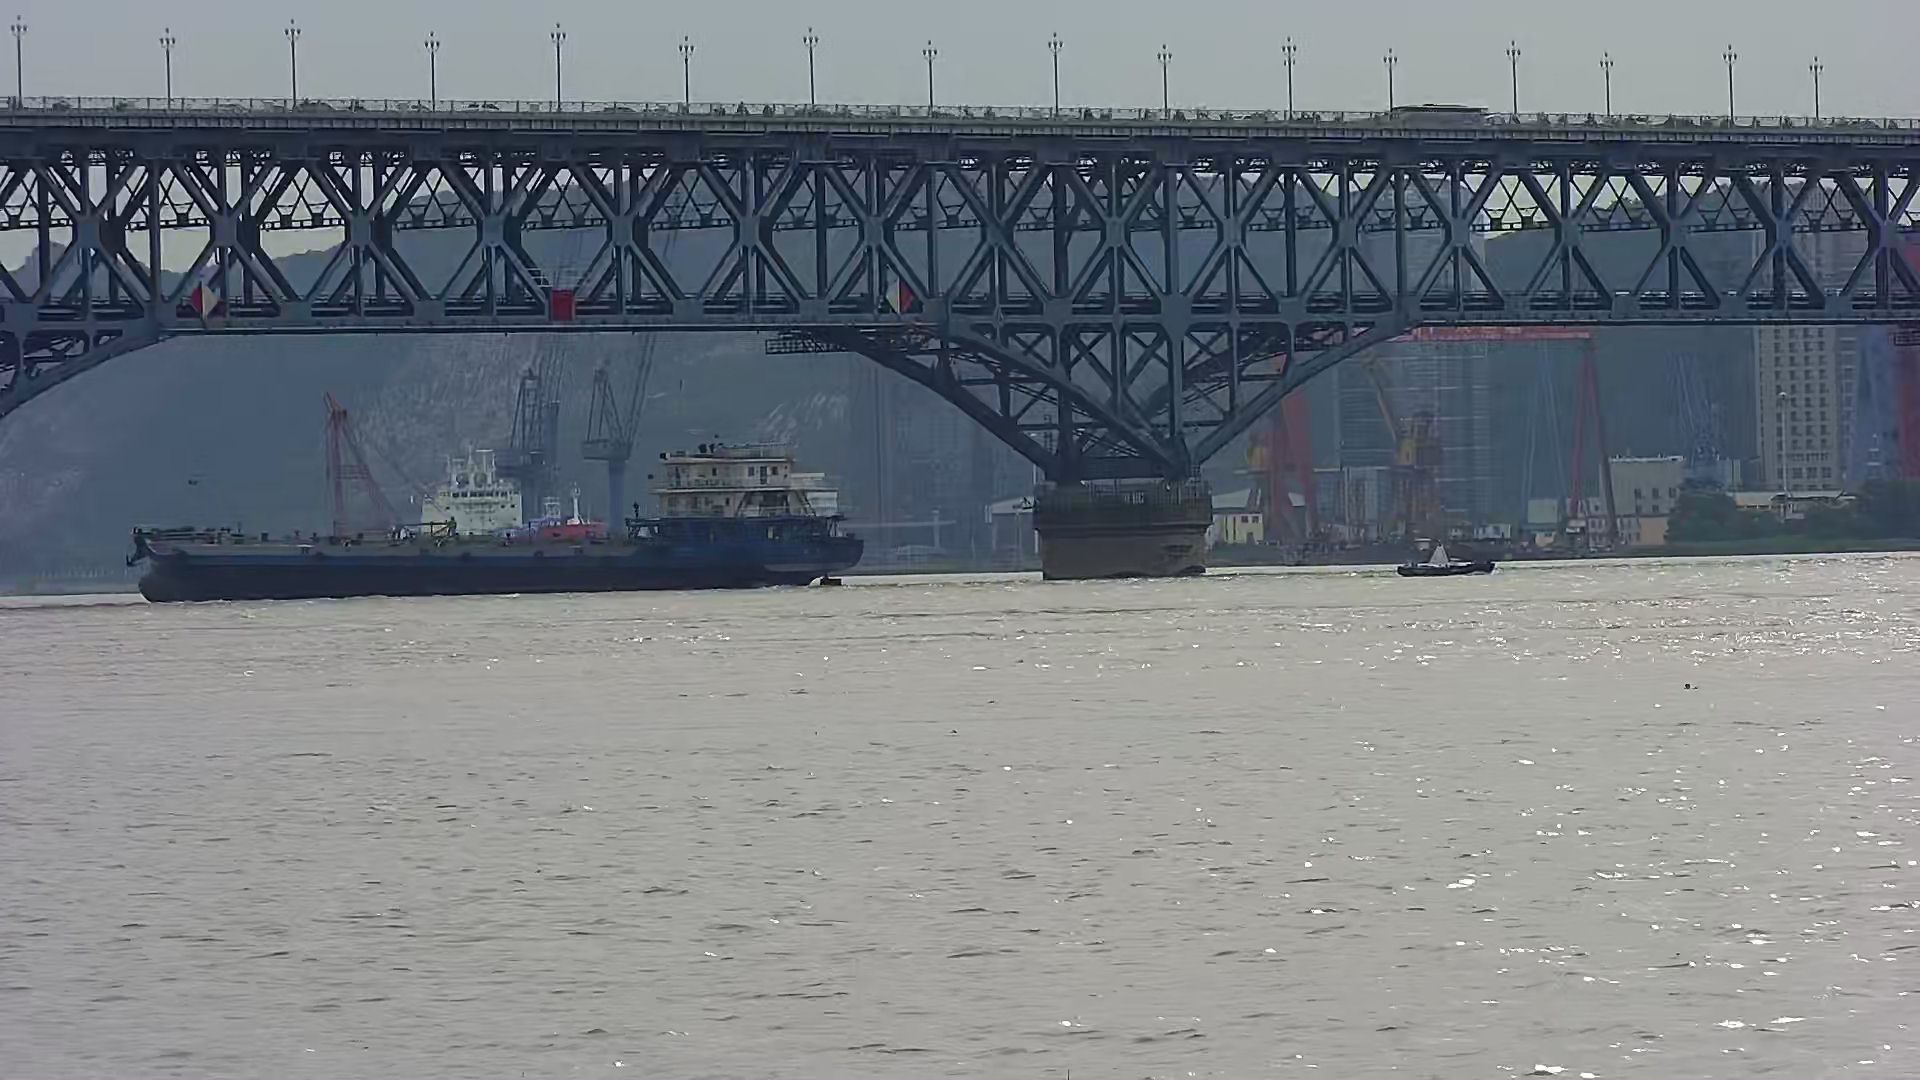boat: (1382, 533, 1502, 584)
bridge: (1, 8, 1913, 587)
ship: (102, 422, 873, 603)
